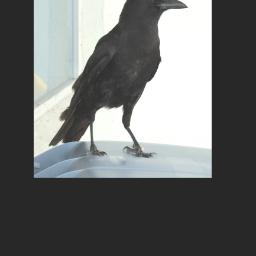Crow: (49, 0, 190, 160)
